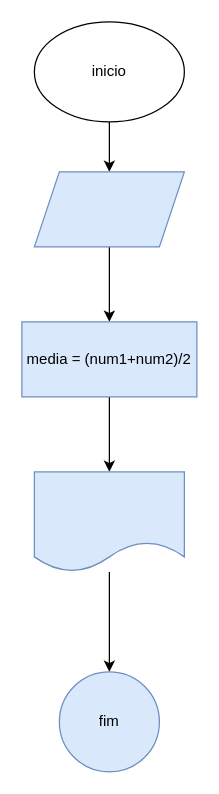
The diagram is 219 pixels wide and 794 high, and some of its shapes have lost their labels. Here are the shapes that lost their labels. From the top down, the centre of each, then its label:
At point 108,209: "num1, num2".
At point 108,521: "media".
